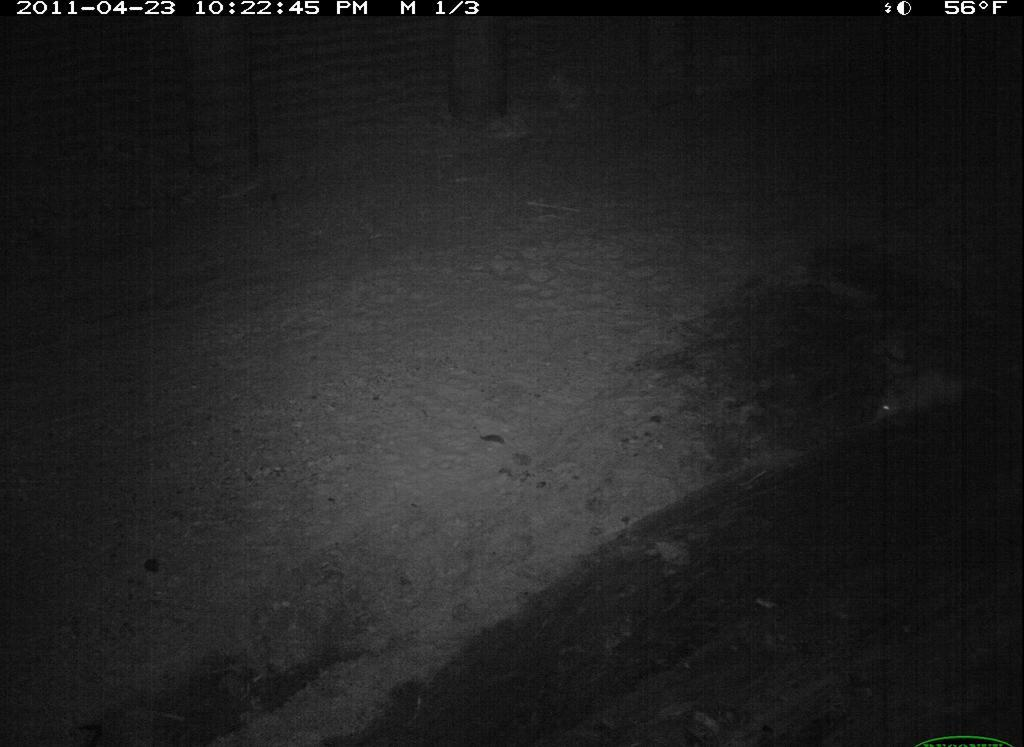opossum: (865, 367, 997, 431)
